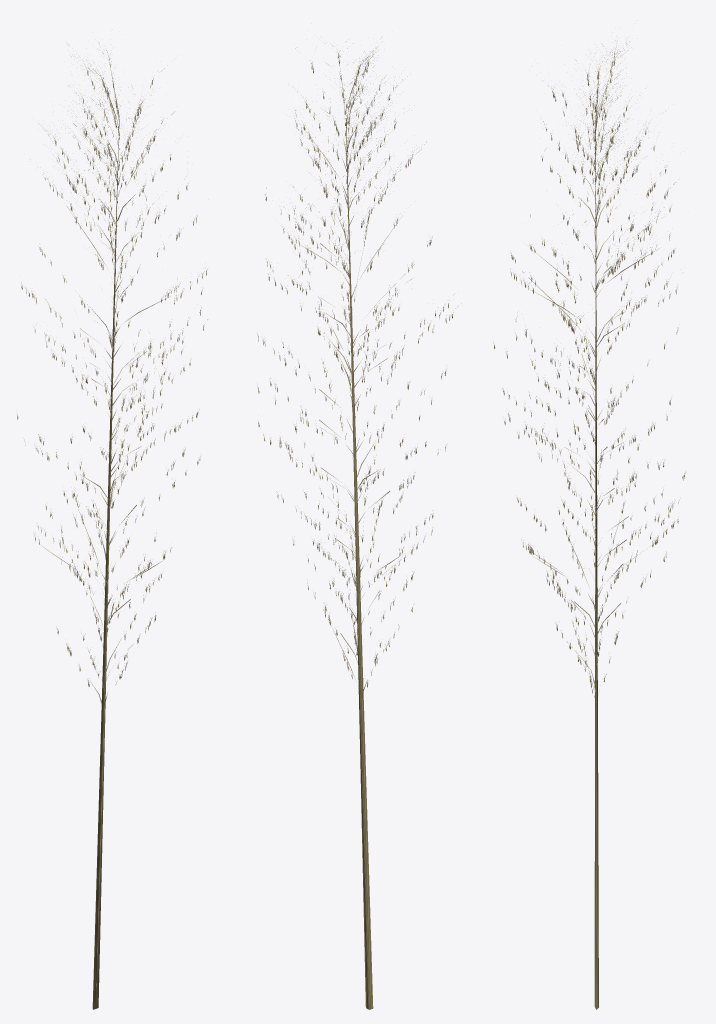
File: saccharum-macro.glb
3 renders of one model, left to right at view 1: azimuth 30°, elevation 25°; view 2: azimuth 150°, elevation 25°; view 3: azimuth 270°, elevation 25°, orthographic.
Parts seen in each view (by area): view 1: silky-hairs, spikelet, stem, panicle; view 2: stem, silky-hairs, spikelet, panicle; view 3: spikelet, silky-hairs, stem, panicle.
Boxes of the visible parts, left/top/right/bottom form: silky-hairs: left=17, top=29, right=207, bottom=684; spikelet: left=17, top=58, right=206, bottom=686; stem: left=92, top=116, right=119, bottom=1009; panicle: left=39, top=64, right=166, bottom=706; stem: left=345, top=98, right=373, bottom=1009; silky-hairs: left=257, top=37, right=461, bottom=684; spikelet: left=258, top=53, right=452, bottom=687; panicle: left=296, top=63, right=414, bottom=699; spikelet: left=494, top=61, right=684, bottom=693; silky-hairs: left=493, top=36, right=685, bottom=690; stem: left=594, top=131, right=598, bottom=1009; panicle: left=521, top=67, right=656, bottom=706.
Bounding box in the file's own units: 0.1121 × 0.5657 × 0.1089.
Materials: 3 (1 with a texture image).
